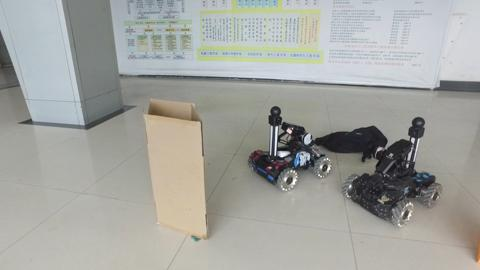box: (141, 94, 211, 242)
chariot: (350, 111, 443, 224), (248, 103, 333, 190)
